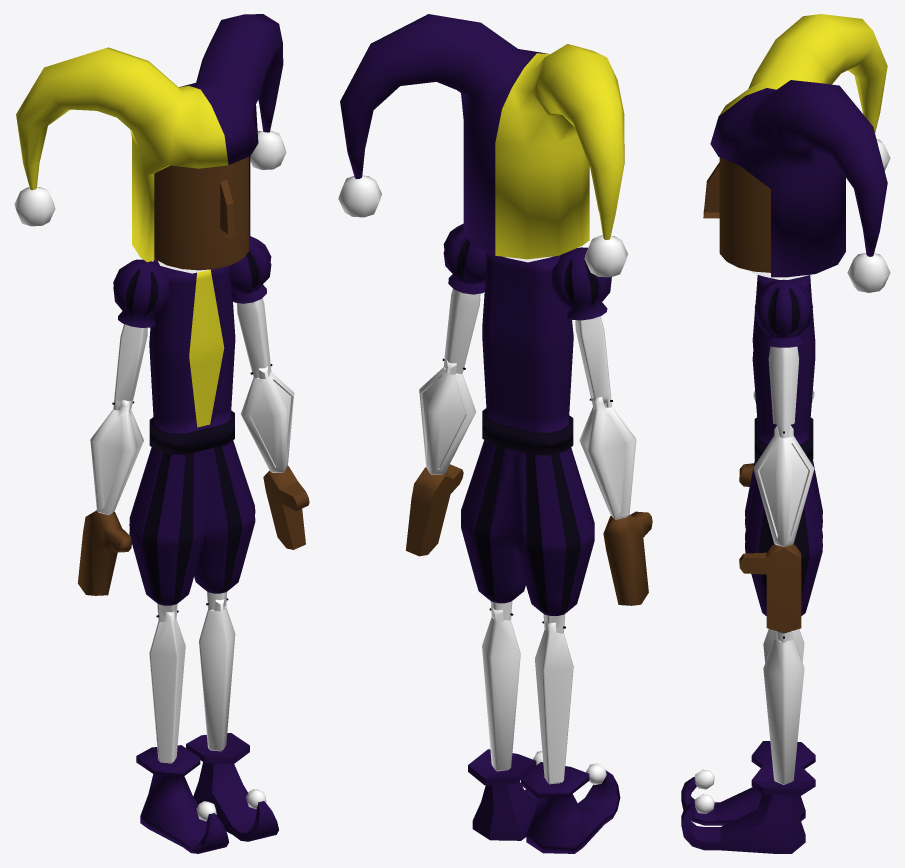
File: SM_Jester.fbx
3 views of the same model, side by side, from view 1: azimuth 30°, elevation 25°; view 2: azimuth 150°, elevation 25°; view 3: azimuth 270°, elevation 25° (orthographic). The views are drawn at different scales.
Parts seen in each view (by area): view 1: Head, LowerTorso, UpperTorso, FootR, FootL, UpperArmR, LowerLegL, LowerLegR, LowerArmR, LowerArmL, UpperArmL, HandR (+1 smaller); view 2: Head, LowerTorso, UpperTorso, FootR, UpperArmR, LowerLegL, LowerLegR, FootL, LowerArmR, LowerArmL, UpperArmL, HandR (+1 smaller); view 3: Head, FootL, UpperArmL, UpperTorso, LowerArmL, LowerLegL, LowerTorso, HandL, FootR, LowerLegR.
Boxes of the visible parts, left/top/right/bottom form: Head: left=14, top=14, right=286, bottom=273; LowerTorso: left=129, top=440, right=255, bottom=605; UpperTorso: left=149, top=259, right=235, bottom=454; FootR: left=136, top=745, right=228, bottom=853; FootL: left=186, top=733, right=278, bottom=841; UpperArmR: left=113, top=259, right=170, bottom=409; LowerLegL: left=199, top=598, right=235, bottom=751; LowerLegR: left=149, top=610, right=185, bottom=763; LowerArmR: left=90, top=400, right=143, bottom=515; LowerArmL: left=241, top=364, right=294, bottom=472; UpperArmL: left=230, top=236, right=271, bottom=378; HandR: left=77, top=510, right=131, bottom=595; Head: left=338, top=14, right=627, bottom=277; LowerTorso: left=461, top=440, right=594, bottom=615; UpperTorso: left=482, top=252, right=573, bottom=455; FootR: left=521, top=762, right=620, bottom=853; UpperArmR: left=551, top=247, right=611, bottom=407; LowerLegL: left=482, top=608, right=520, bottom=771; LowerLegR: left=535, top=621, right=573, bottom=784; FootL: left=468, top=749, right=543, bottom=840; LowerArmR: left=579, top=397, right=636, bottom=519; LowerArmL: left=419, top=358, right=476, bottom=474; UpperArmL: left=443, top=223, right=486, bottom=374; HandR: left=603, top=511, right=652, bottom=605; Head: left=703, top=14, right=890, bottom=292; FootL: left=681, top=765, right=815, bottom=853; UpperArmL: left=754, top=279, right=812, bottom=438; UpperTorso: left=752, top=275, right=815, bottom=461; LowerArmL: left=753, top=425, right=814, bottom=546; LowerLegL: left=763, top=631, right=804, bottom=784; LowerTorso: left=745, top=459, right=822, bottom=615; HandL: left=739, top=544, right=801, bottom=633; FootR: left=681, top=741, right=815, bottom=825; LowerLegR: left=763, top=629, right=804, bottom=662.
Bounding box in the file's own units: 72.61 × 199 × 48.38.
